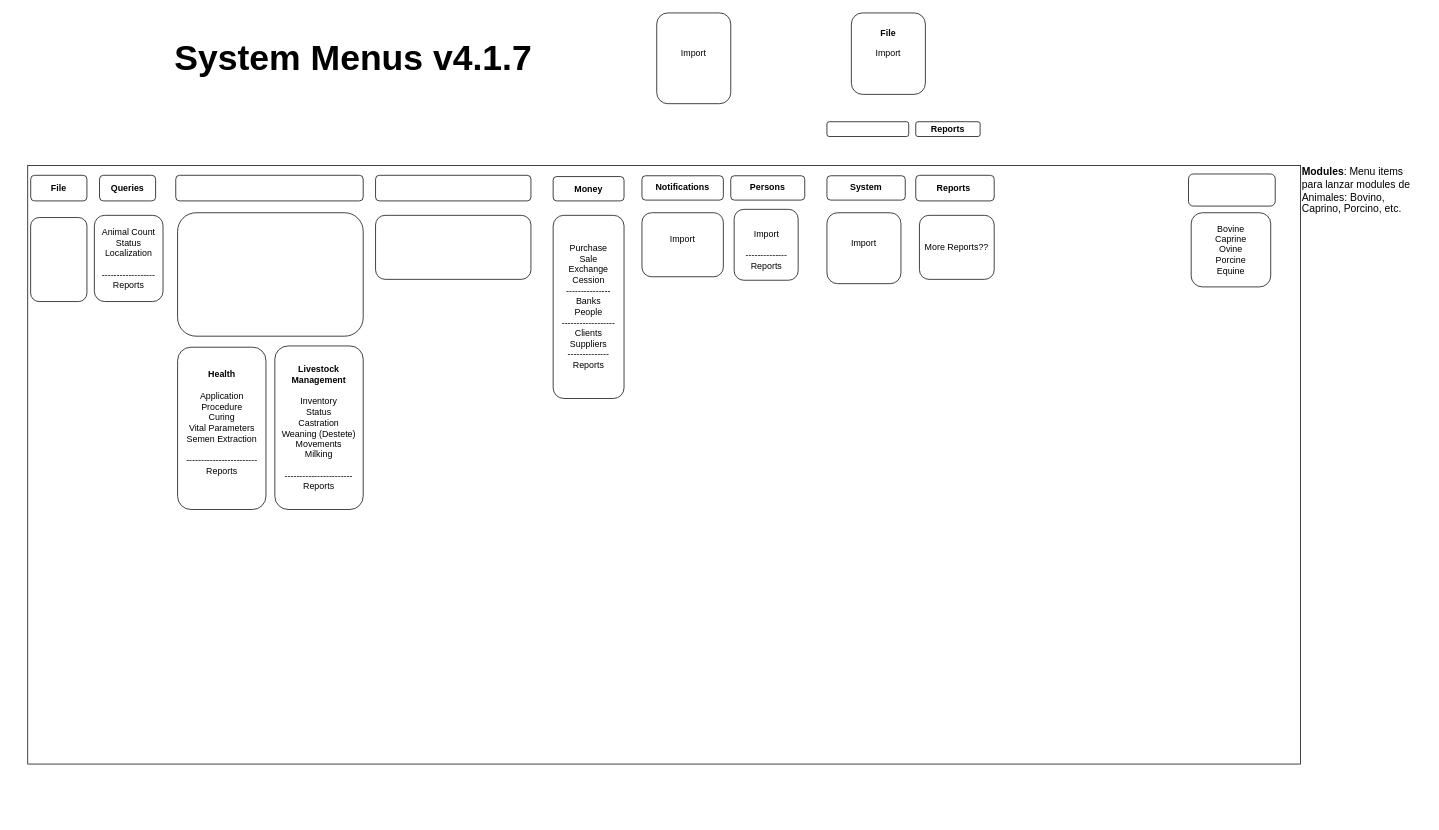
This 1439x830 diagram has some shape labels left out. The shapes that lost their labels are listed below. From the top down, each one's centre as x and y in pixels, then its label:
At point (867, 129): "Transactions".
At point (269, 188): "Activities".
At point (453, 188): "Activity Programming".
At point (1231, 189): "Modules".
At point (58, 259): "File Import Export Print -------------- Help".
At point (453, 247): "Health Livestock Management -------------------------------------------- Reports".
At point (270, 274): "Health Livestock Management Parameter Setting".
